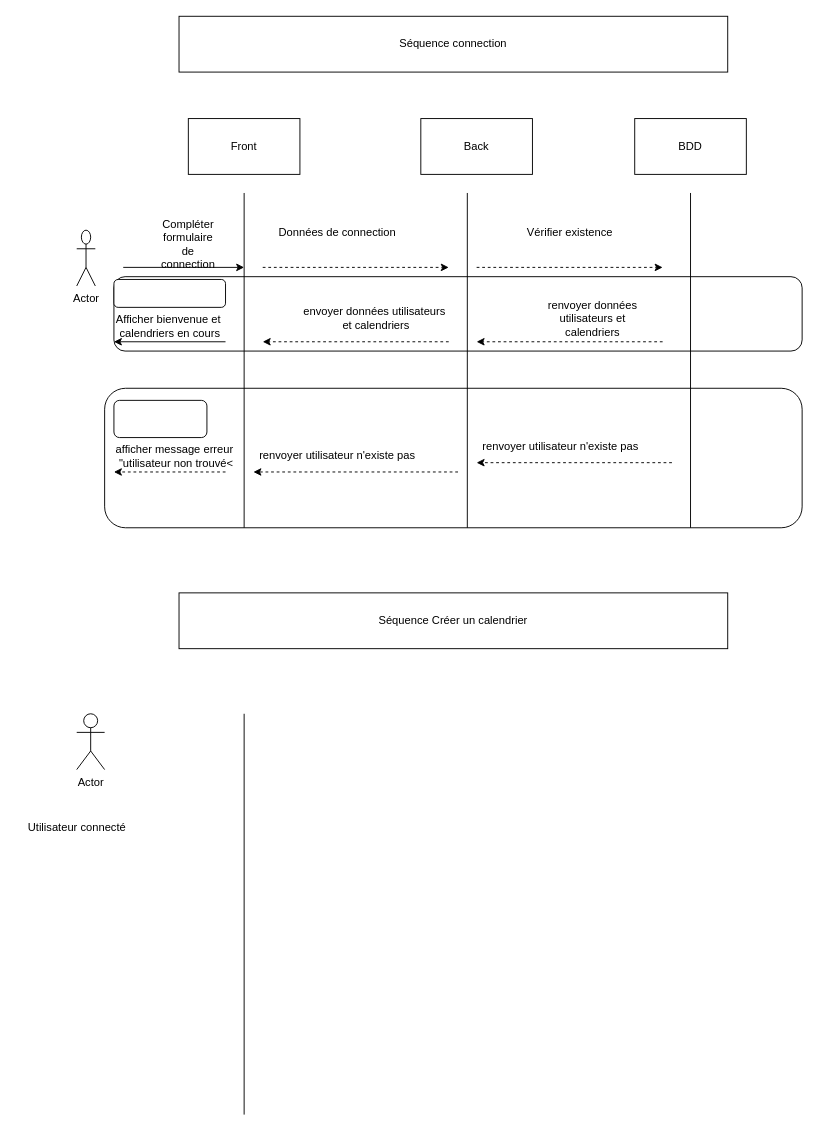
This 818x1132 diagram has some shape labels left out. Each missing label, with the centre of its shape:
"alt : utilisateur existe" goes at pixel 169 293.
"alt : utilisateur n'existe pas" goes at pixel 160 418.
